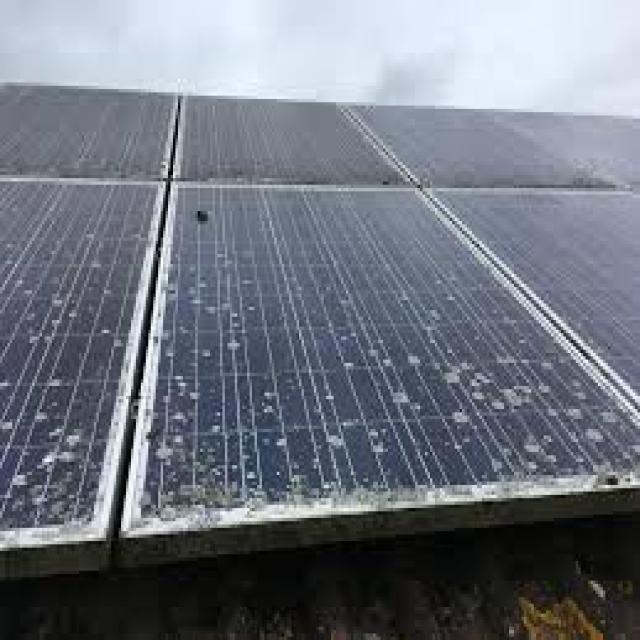dust-solar-panel: (0, 93, 639, 539)
